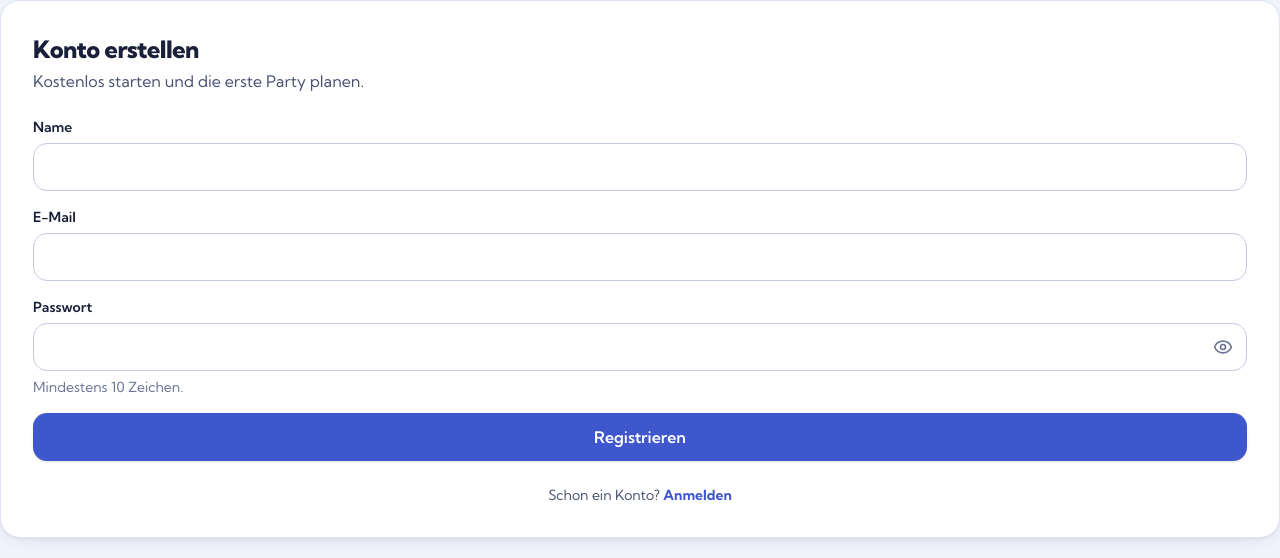
Scenario: AuthForm (register) › shows server-side field errors next to the fields
Type "Ada" into the field labelled "Name".
click(640, 167); type("Ada")  # box [33, 143, 1247, 191]
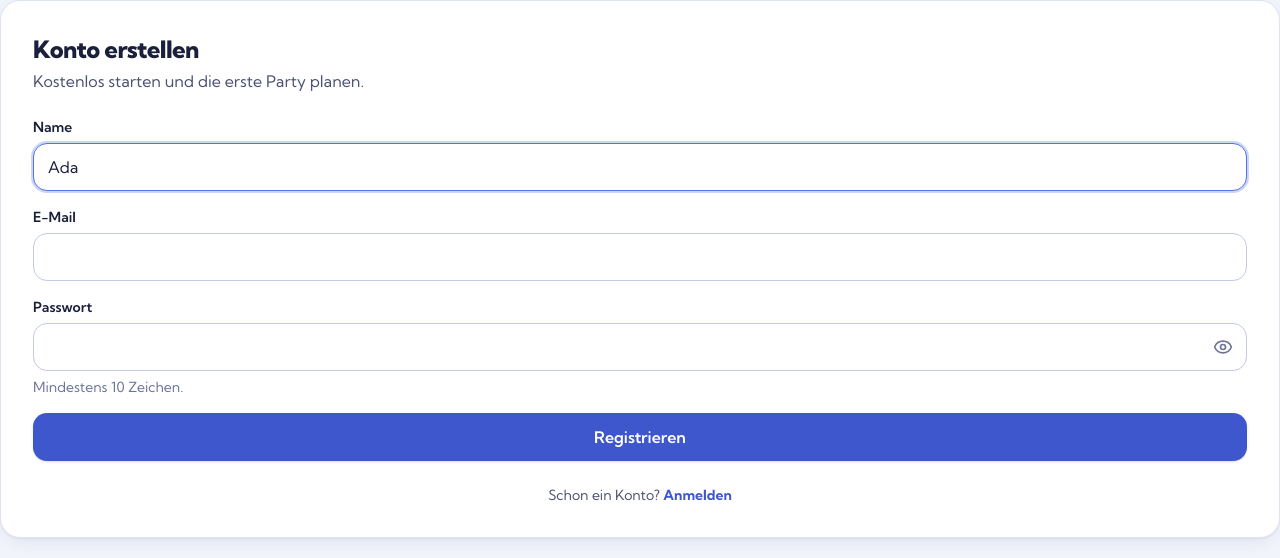
Type "ada@example.com" into the field labelled "E-Mail".
click(640, 257); type("ada@example.com")  # box [33, 233, 1247, 281]
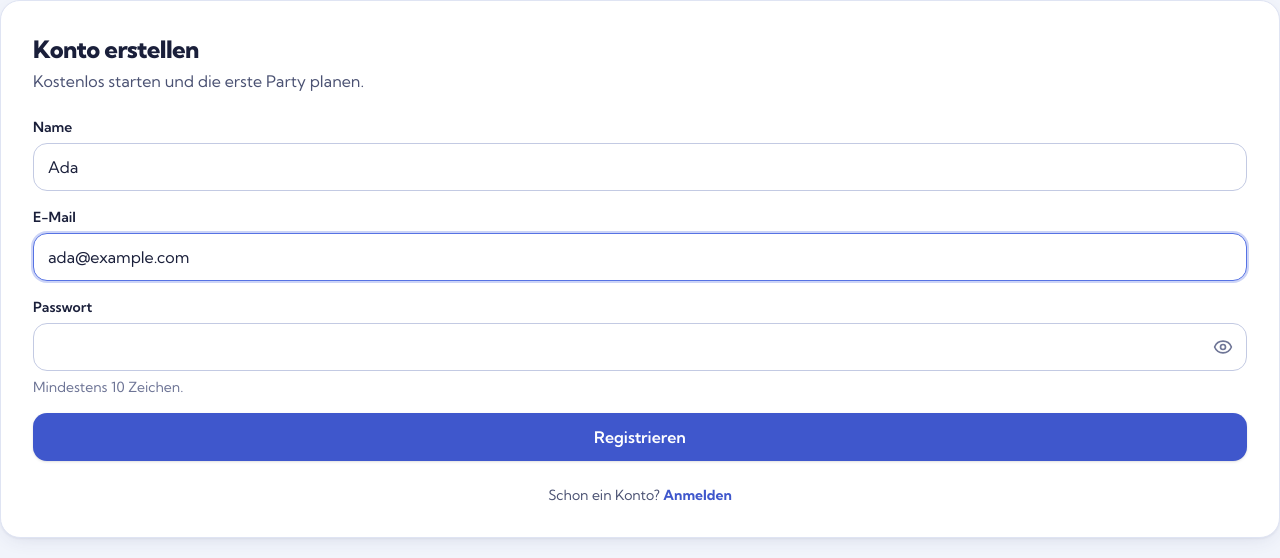
Type "a long enough password" into the password field labelled "Passwort".
click(640, 347); type("a long enough password")  # box [33, 323, 1247, 371]
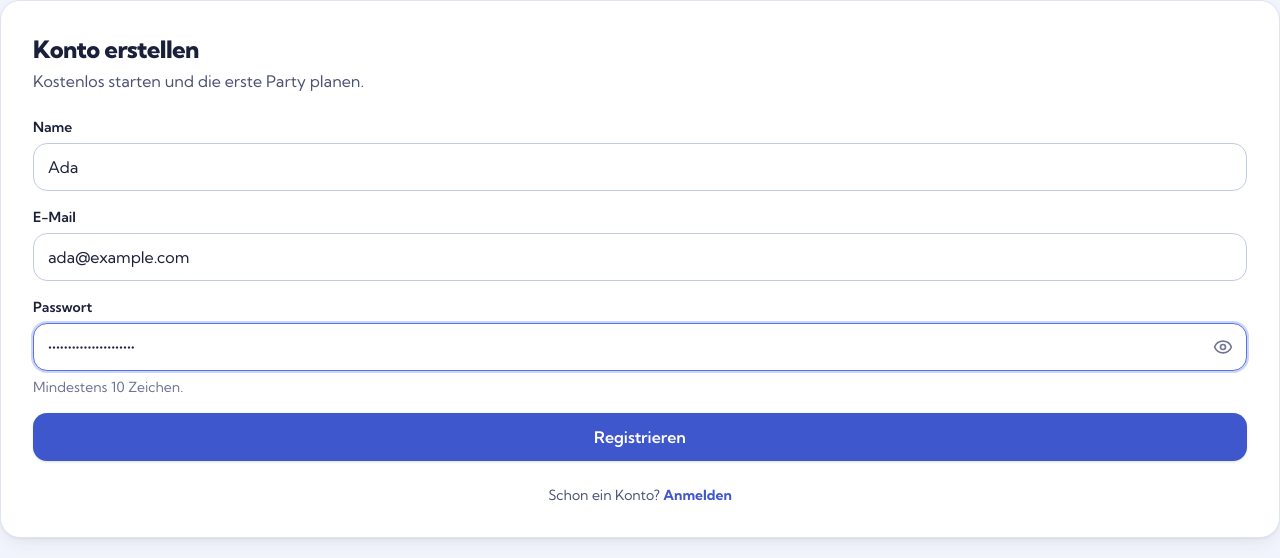
Click the button "Registrieren".
click(640, 437)  # box [33, 413, 1247, 461]
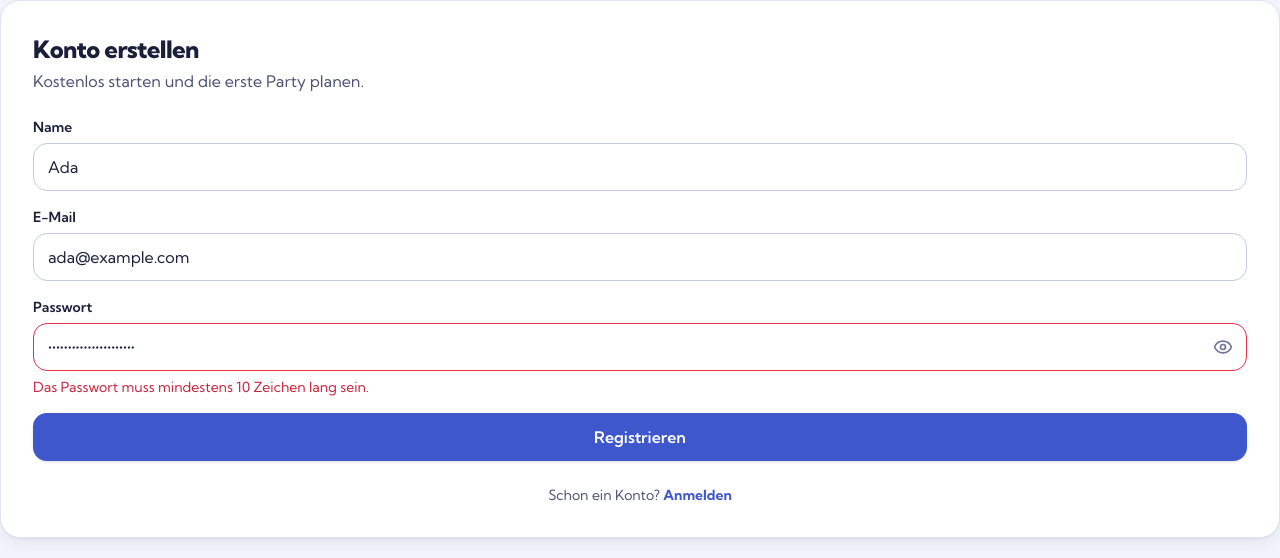
Expected: the text "Das Passwort muss mindestens 10 Zeichen lang sein." is shown, [33, 378, 369, 396]
